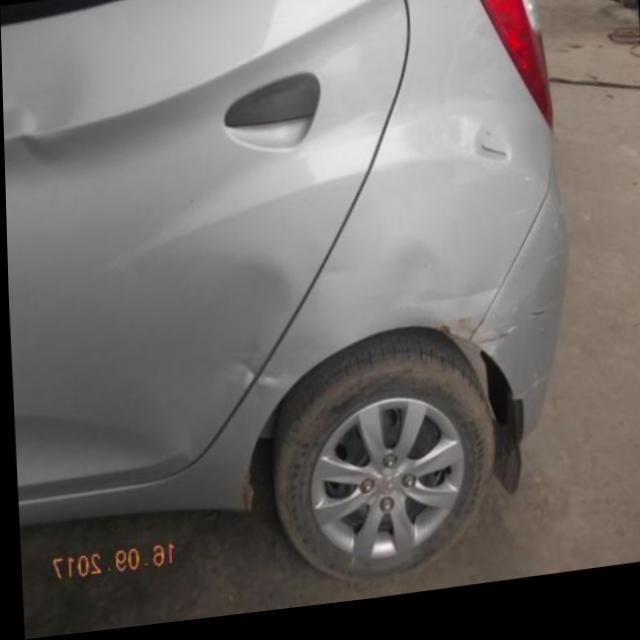crack: (479, 155, 506, 167)
dent: (3, 105, 65, 159), (234, 360, 278, 399)
rub: (470, 133, 511, 177)
scratch: (434, 326, 513, 365)
